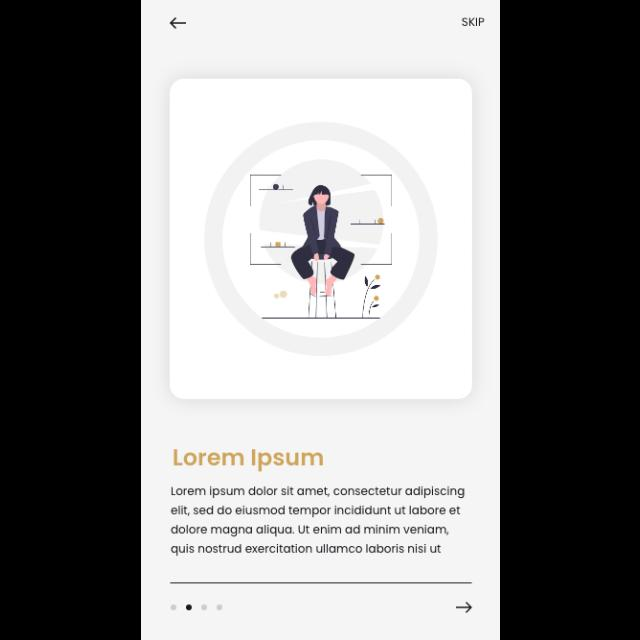icon: (168, 18, 186, 30), (456, 601, 472, 613)
image: (204, 121, 438, 356)
pageindicator: (171, 604, 223, 610)
text: (171, 486, 465, 556), (173, 450, 323, 472), (462, 18, 484, 27)
